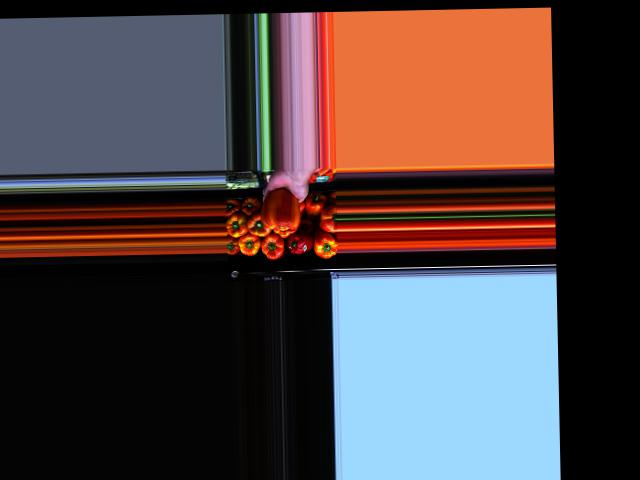bell_pepper: (302, 194, 329, 216)
